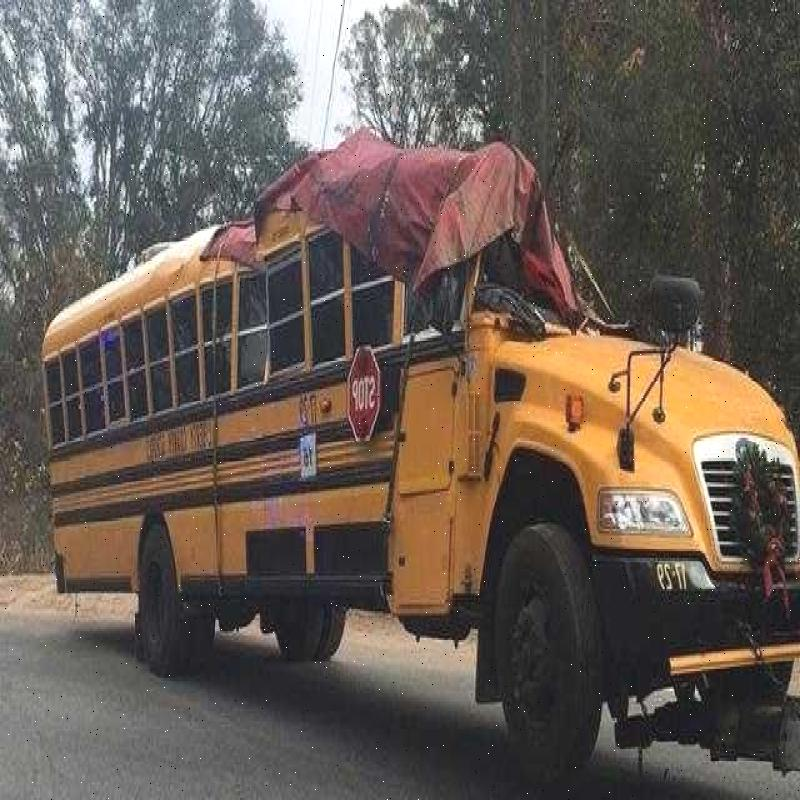bus: (23, 84, 785, 794)
